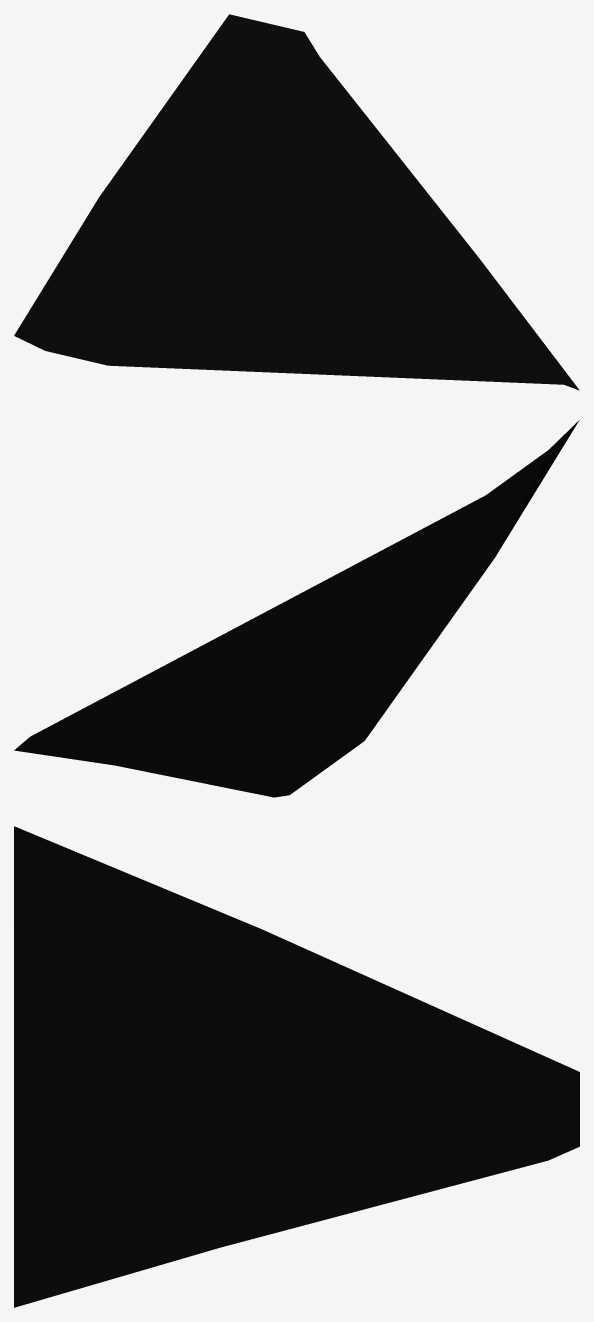
3 renders of one model, top to bottom at view 1: azimuth 30°, elevation 25°; view 2: azimuth 210°, elevation 25°; view 3: azimuth 270°, elevation 25°, orthographic. The views are drawn at different scales.
Bounding box in the file's own units: 1.67 × 0.544 × 1.41.
Materials: 1 (1 with a texture image).
